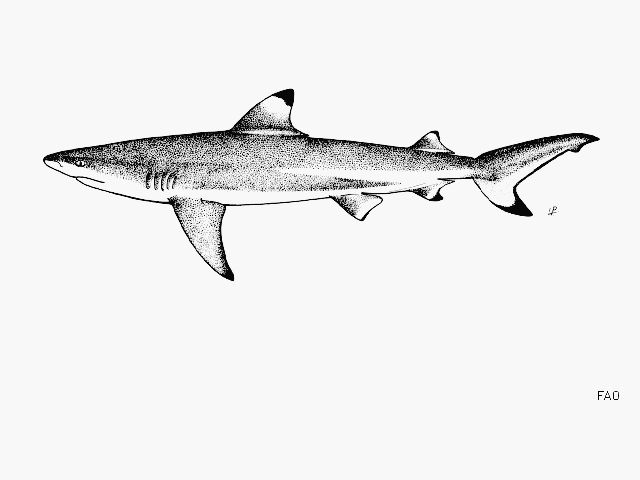fish: (44, 89, 599, 281)
